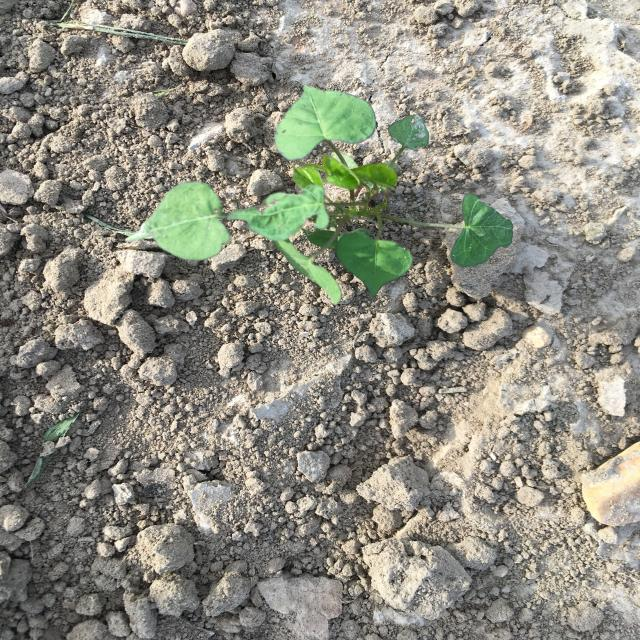MorningGlory: (126, 86, 513, 305)
